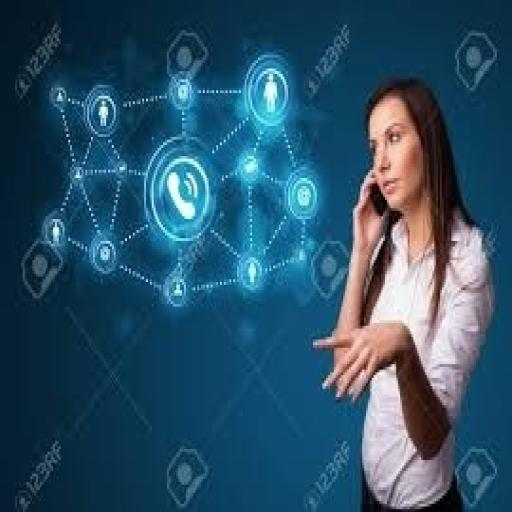calling: (309, 74, 497, 509)
